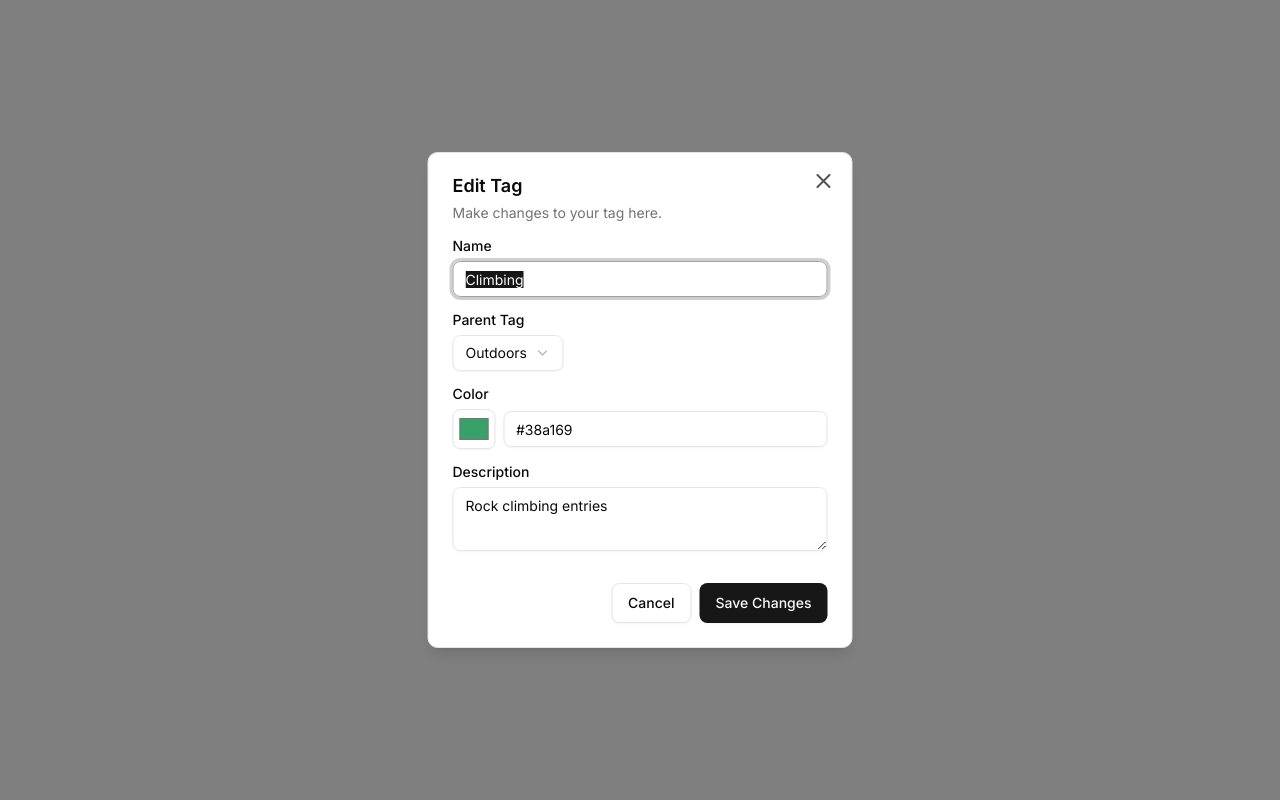
it: TagFormDialog › keeps the hex field in step with the colour picker
Replace the text in the field with placeholder "#000000" with "#3182ce" at (665, 429), box [503,411,828,447]
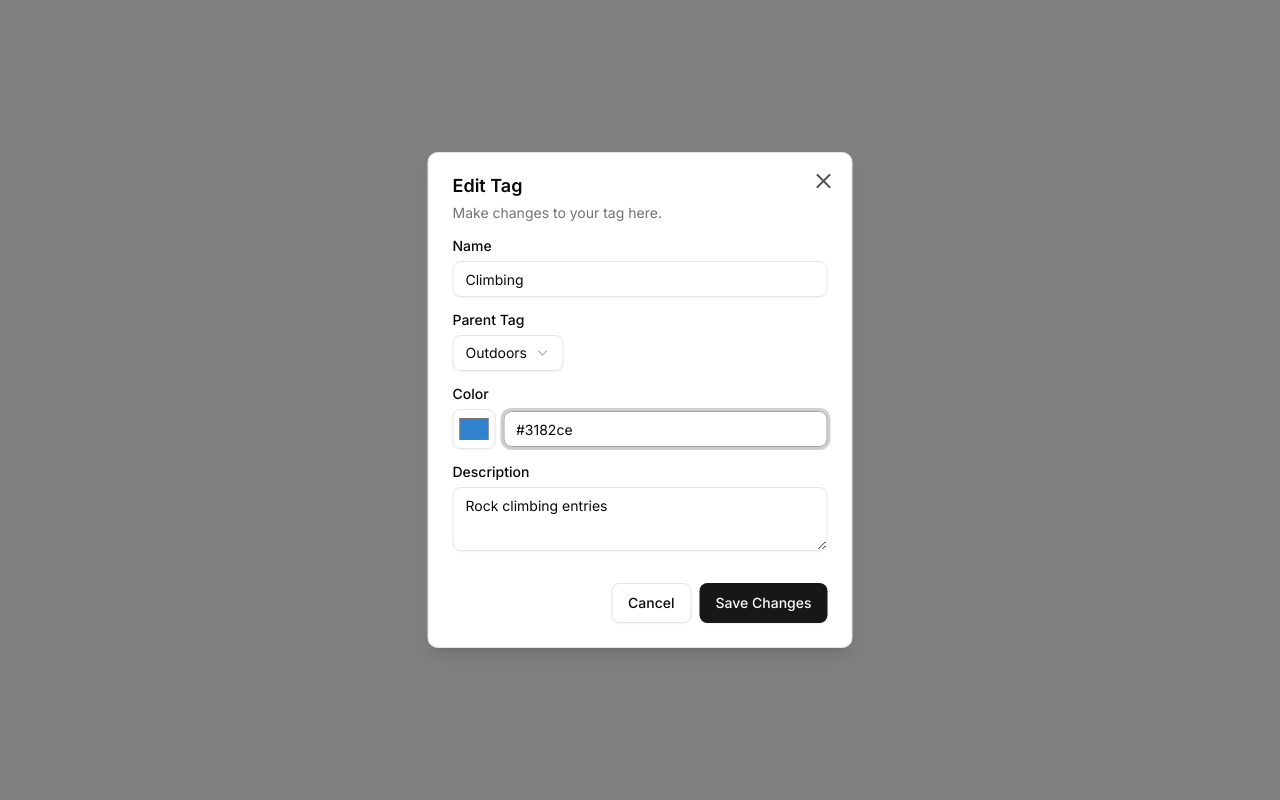
Check: the colour field named "Color Picker" holds "#3182ce", box [452,409,495,449]
